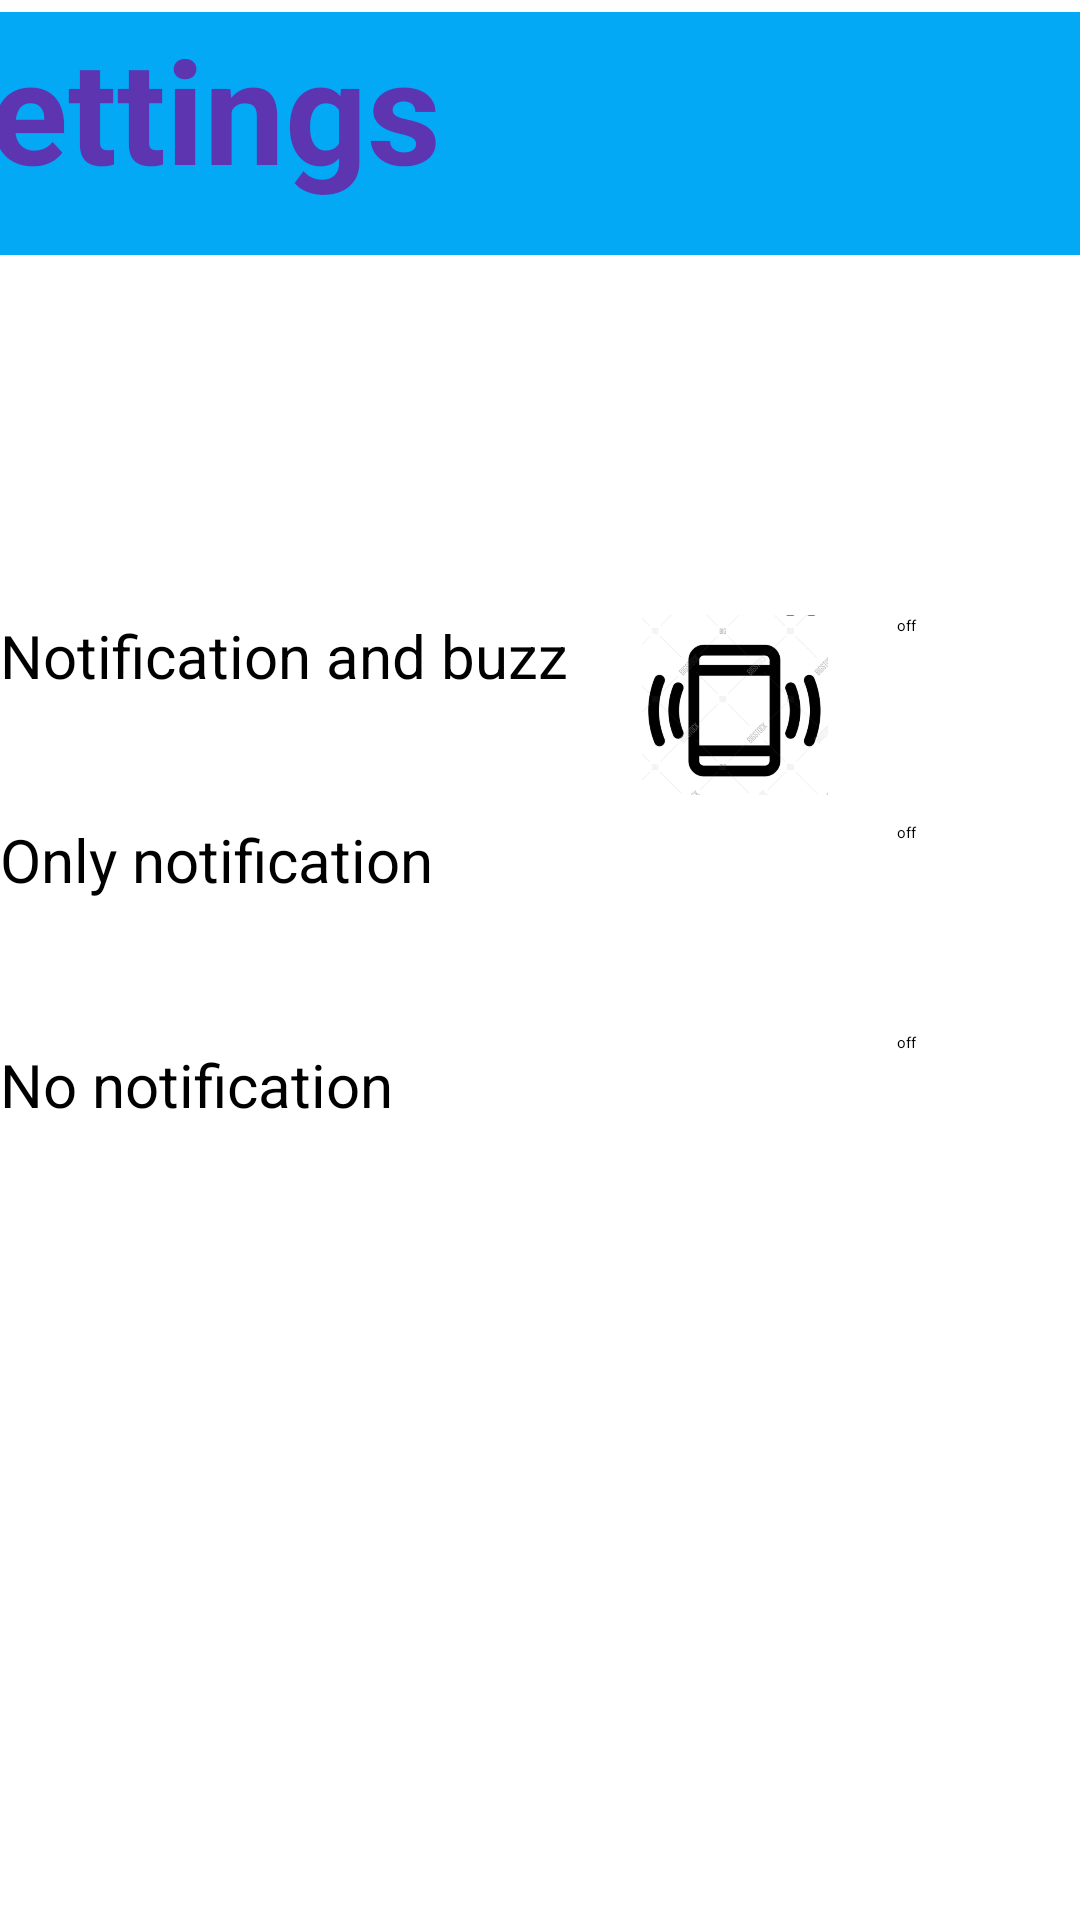

Where icons sit on this 1080x1920 app screen, as rect(x1, y1, x2, y2):
vib: rect(648, 615, 828, 795)
